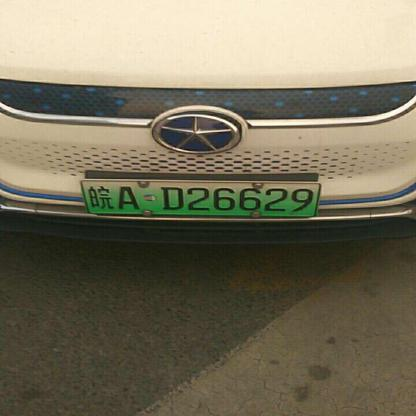lp: (81, 181, 319, 216)
